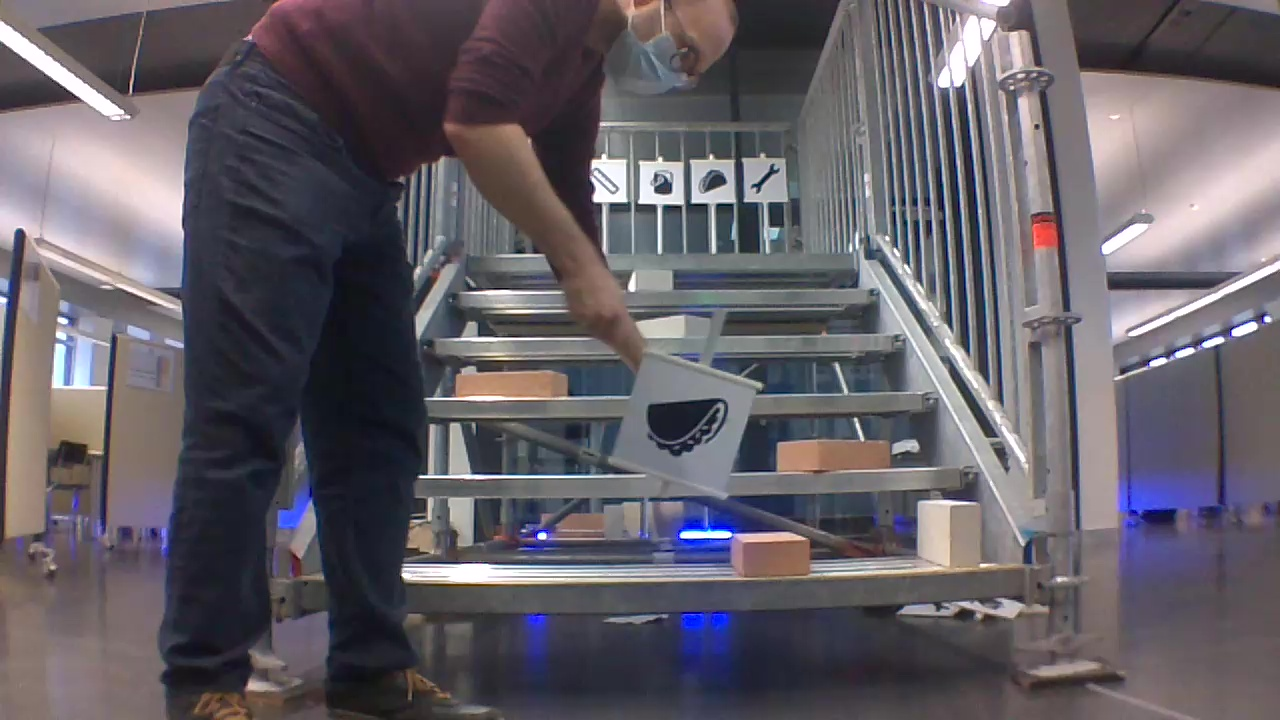brick: (916, 499, 980, 567), (729, 531, 808, 576), (778, 439, 887, 469), (456, 370, 566, 396), (641, 314, 710, 338), (628, 270, 671, 289)
bucket: (645, 169, 678, 197)
edge: (406, 567, 1025, 610)
ruler: (590, 167, 621, 197)
taco: (637, 390, 732, 460), (694, 166, 727, 196)
wrench: (747, 159, 782, 197)
